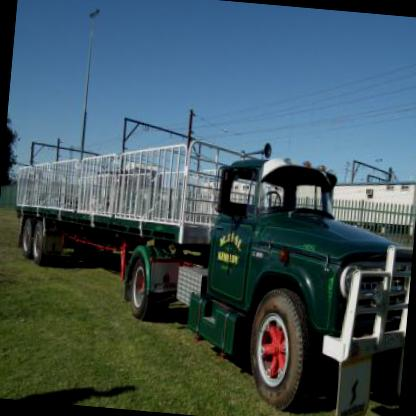truck: (0, 120, 415, 415)
